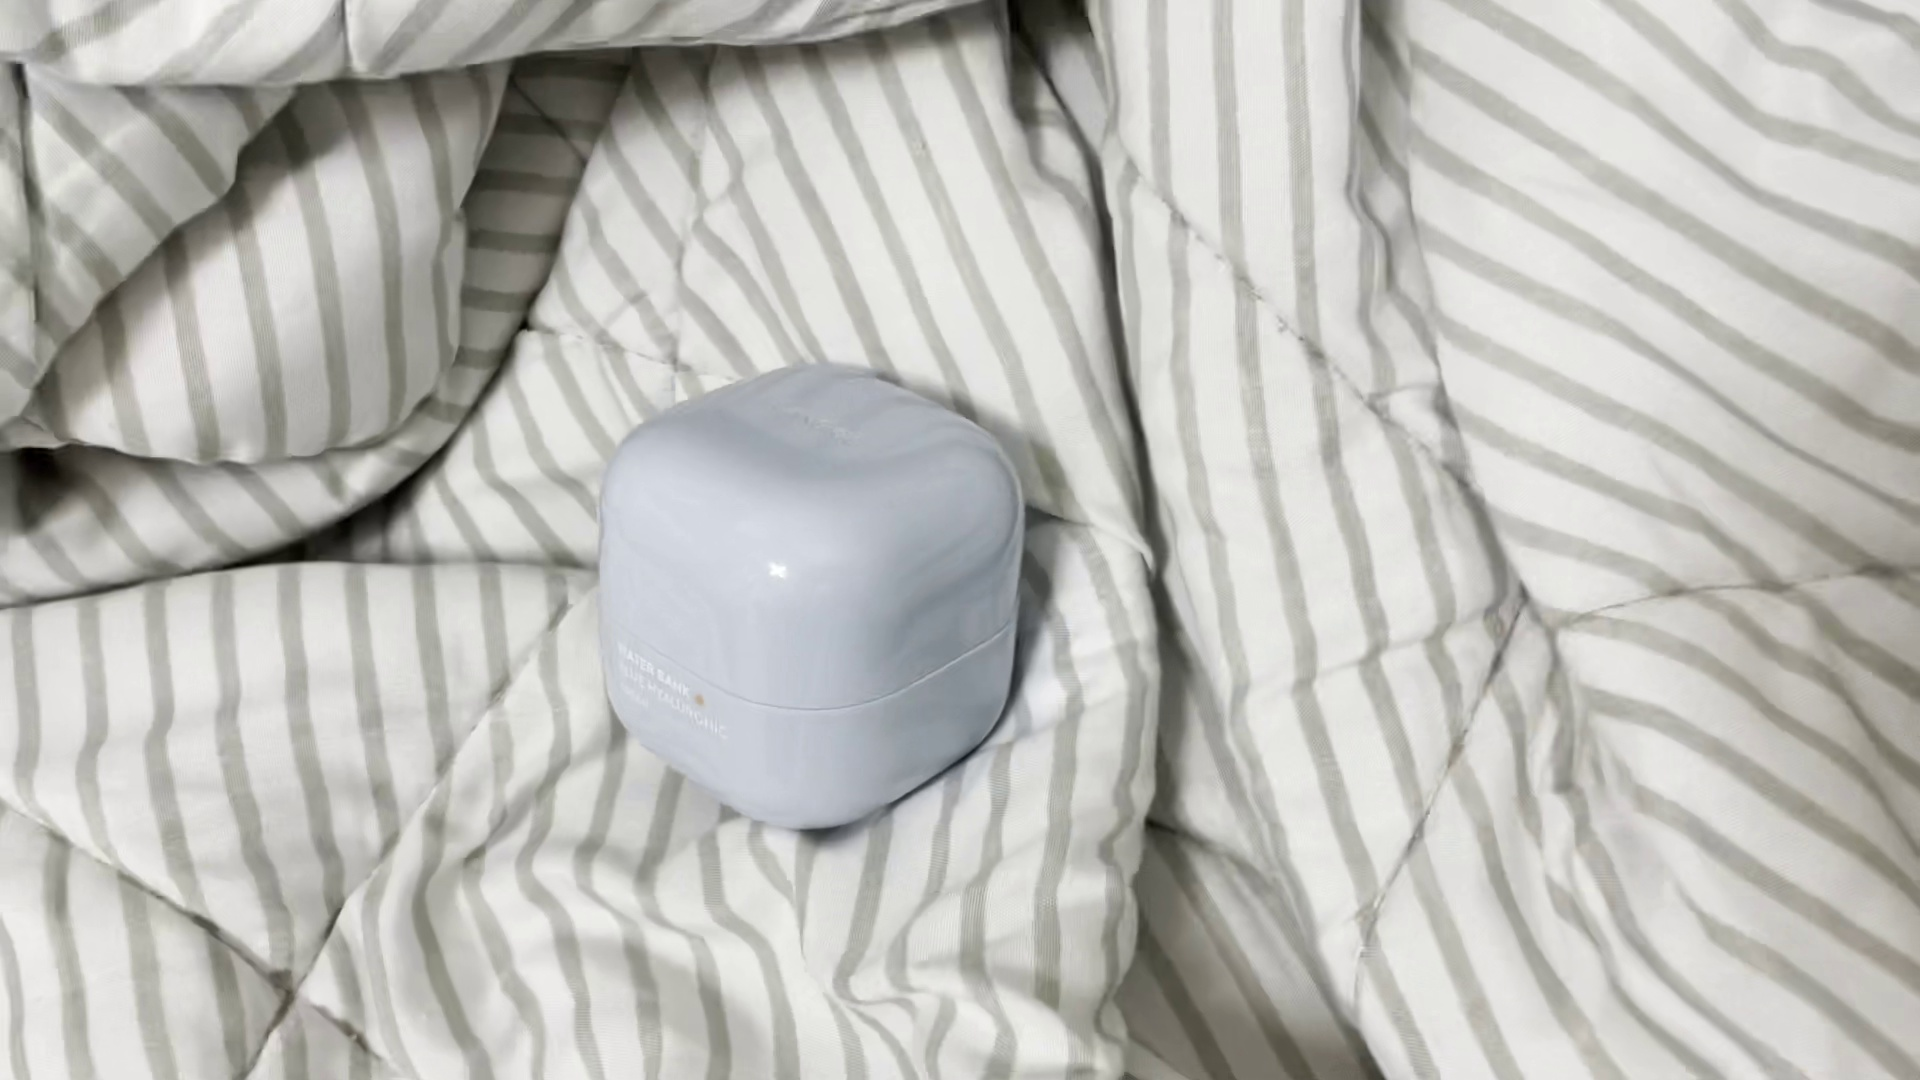cream: (597, 364, 1022, 833)
